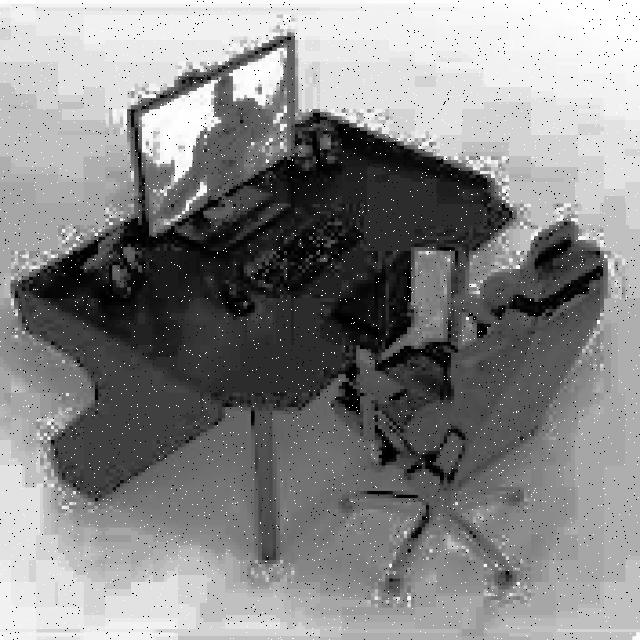book: (331, 218, 607, 593)
table: (11, 109, 516, 560)
